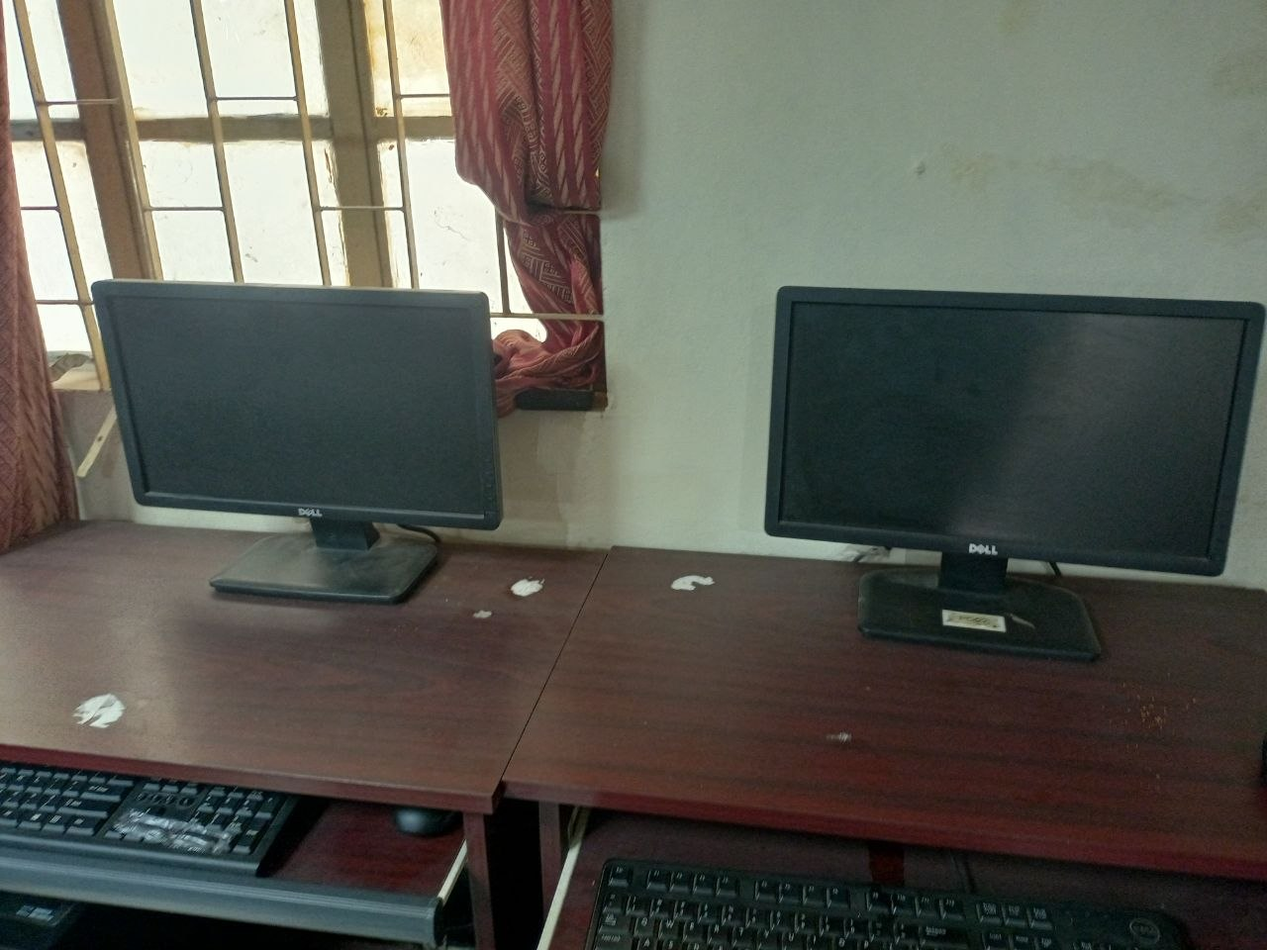computer monitor: (765, 287, 1262, 658), (93, 280, 500, 601)
